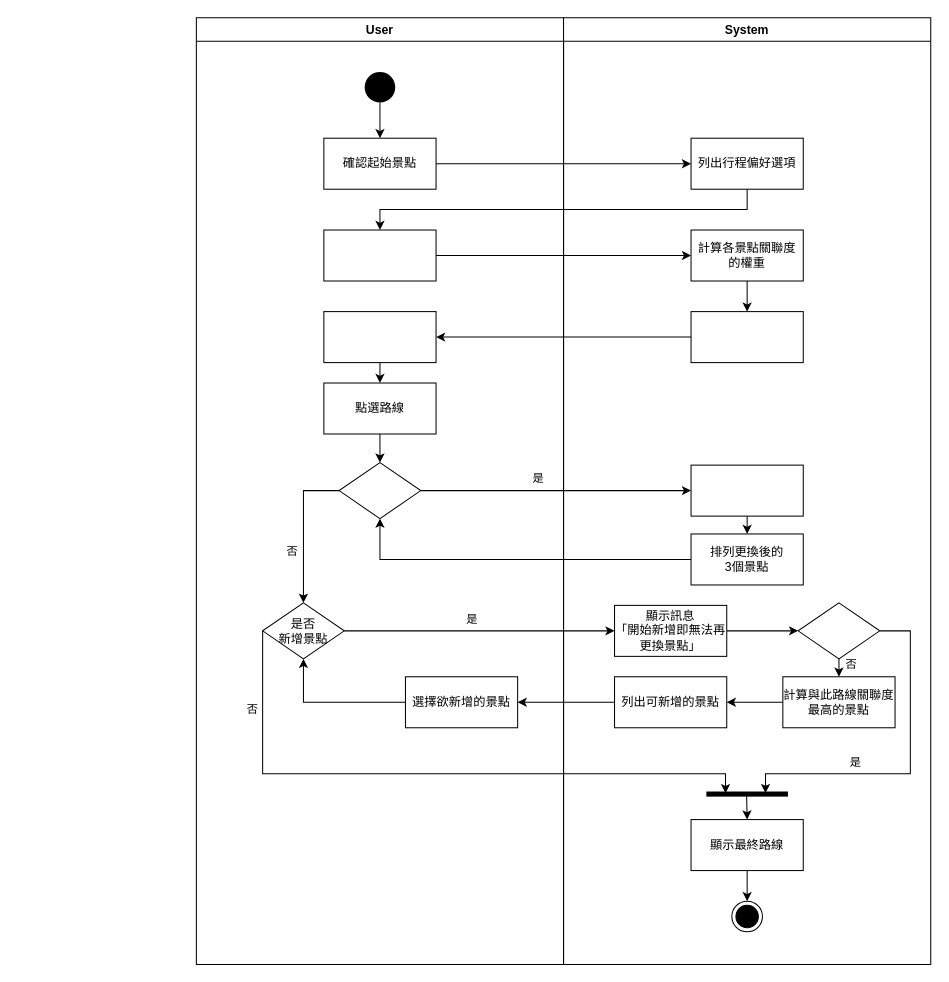
Some shapes in this 949 by 982 pixel diagram are drawn without their labels. The centre of each missing label's shape, as x and y in pixels:
排列關聯度最高的 5條路線 每條3個景點: the point at 746,337
是否 更換景點: the point at 379,490
景點數是否 達上限（6個）: the point at 838,630
檢視路線: the point at 379,337
計算與此路線關聯度最高的景點: the point at 746,490
選擇行程偏好: the point at 379,255
